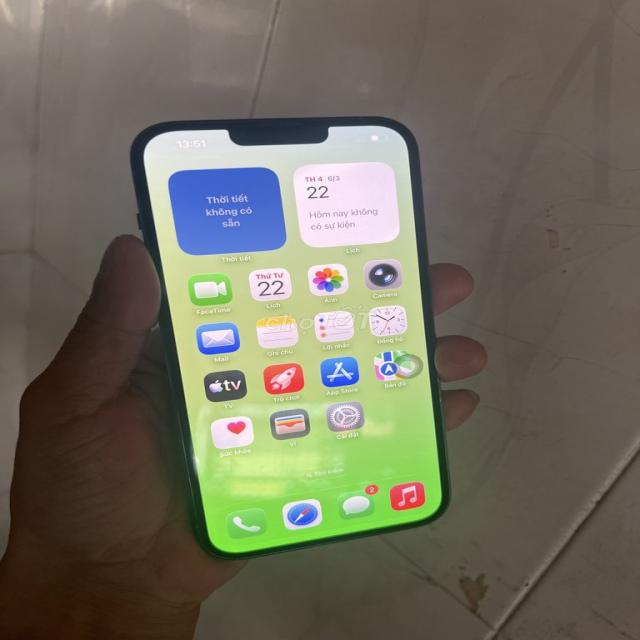gen_12_13: (132, 113, 448, 565)
